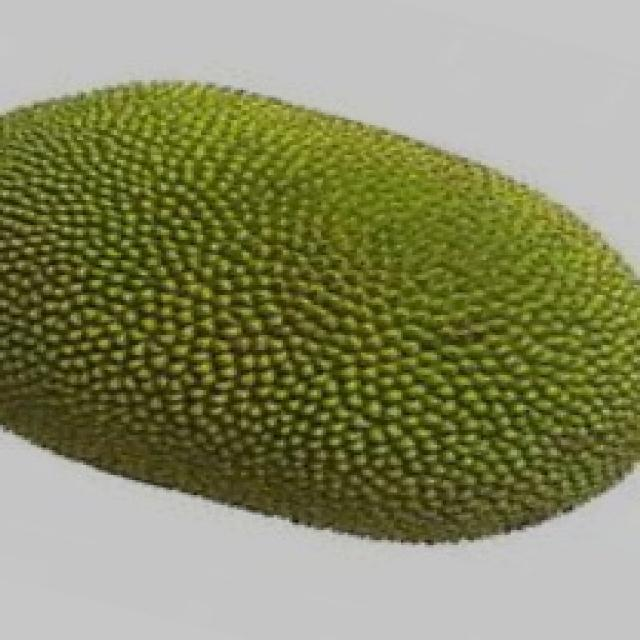Fruit: (0, 58, 409, 448), (261, 62, 640, 322)
